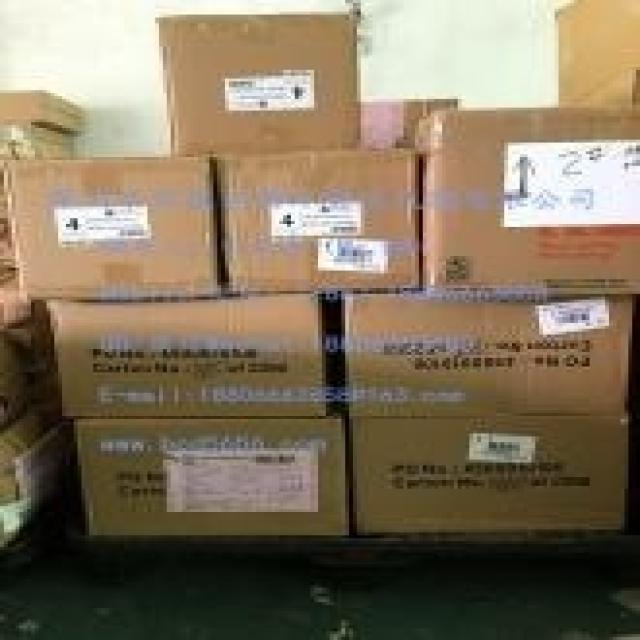box: (415, 108, 640, 297), (47, 294, 330, 422), (341, 294, 632, 416), (213, 143, 427, 300), (78, 416, 353, 538), (353, 413, 624, 532), (4, 157, 221, 300), (151, 9, 357, 157), (559, 0, 640, 111), (0, 93, 81, 137), (0, 119, 78, 157)
